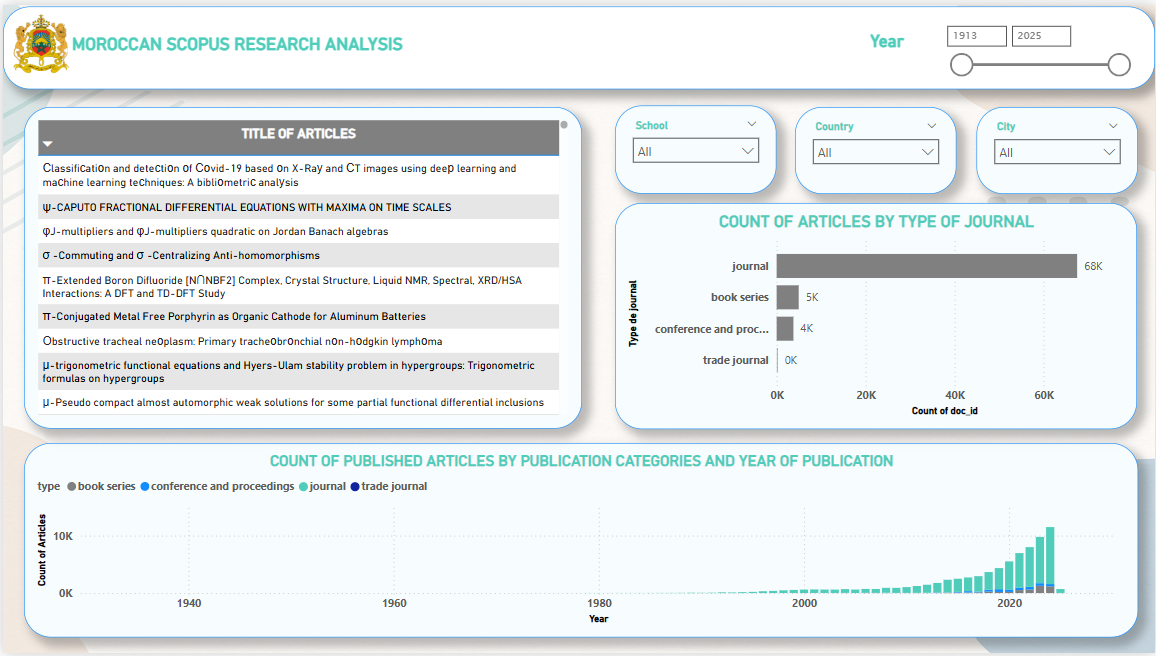

What the dashboard file says about the page in this screenshot:
{"tool":"powerbi","page":{"name":"Dashboard3","canvas":[1280,720],"ordinal":2},"visuals":[{"type":"slicer","fields":{"Values":["Affiliation.city"]},"box":[1081,113.4,179.5,96.4],"z":0},{"type":"slicer","fields":{"Values":["Affiliation.country"]},"box":[880.6,113.4,179.5,96.4],"z":1000},{"type":"slicer","fields":{"Values":["Affiliation.school"]},"box":[680.3,111.5,179.5,98.3],"z":2000},{"type":"columnChart","title":"COUNT OF PUBLISHED ARTICLES BY PUBLICATION CATEGORIES AND YEAR OF PUBLICATION","fields":{"Series":["Journal.type"],"Category":["Metadata.year"],"Y":["CountNonNull(Metadata.doc_id)"]},"box":[22.8,486.3,1237.8,216.3],"z":3000},{"type":"barChart","title":"COUNT OF ARTICLES BY TYPE OF JOURNAL","fields":{"Y":["CountNonNull(Metadata.doc_id)"],"Category":["Journal.type"]},"box":[680.3,219.2,580.2,251.3],"z":4000},{"type":"tableEx","fields":{"Values":["Document.title"]},"box":[22.7,113.4,619.8,357.2],"z":5000},{"type":"textbox","box":[0,2,1280,92],"z":6000},{"type":"image","box":[0,0,84.5,84.5],"z":7000},{"type":"textbox","box":[71.8,26.5,393.1,41.6],"z":8000},{"type":"textbox","box":[958,24,68,34.7],"z":9000},{"type":"slicer","fields":{"Values":["Metadata.year"]},"box":[1026,3.3,244,86.7],"z":10000}]}

Visuals, with their boxes in screenshot pixels (x1, y1, x2, y2), scaled from the page's 1280x720 canvas onto the 1156x656 screenshot:
slicer - Affiliation.city: crop(976, 103, 1138, 191)
slicer - Affiliation.country: crop(795, 103, 957, 191)
slicer - Affiliation.school: crop(614, 102, 777, 191)
"COUNT OF PUBLISHED ARTICLES BY PUBLICATION CATEGORIES AND YEAR OF PUBLICATION" columnChart: crop(21, 443, 1138, 640)
"COUNT OF ARTICLES BY TYPE OF JOURNAL" barChart: crop(614, 200, 1138, 429)
tableEx - Document.title: crop(21, 103, 580, 429)
textbox: crop(0, 2, 1155, 86)
image: crop(0, 0, 76, 77)
textbox: crop(65, 24, 420, 62)
textbox: crop(865, 22, 927, 53)
slicer - Metadata.year: crop(927, 3, 1147, 82)
